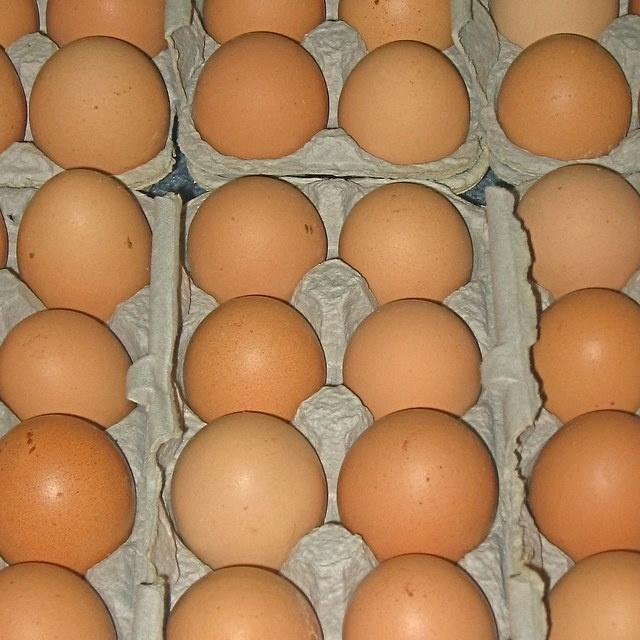egg: (336, 407, 499, 562), (170, 411, 327, 570), (0, 413, 136, 575), (15, 167, 152, 321), (28, 35, 170, 174), (181, 294, 327, 422), (185, 174, 327, 303), (495, 32, 632, 160), (192, 31, 328, 159), (526, 409, 640, 561), (341, 297, 482, 419), (514, 163, 640, 299), (337, 39, 470, 165), (338, 181, 473, 304), (0, 307, 133, 428), (530, 287, 640, 422), (341, 553, 498, 640), (164, 564, 324, 640), (0, 561, 118, 640), (546, 549, 640, 640), (45, 0, 167, 57), (488, 0, 619, 48), (337, 0, 452, 51), (201, 0, 326, 44), (0, 22, 27, 172)
